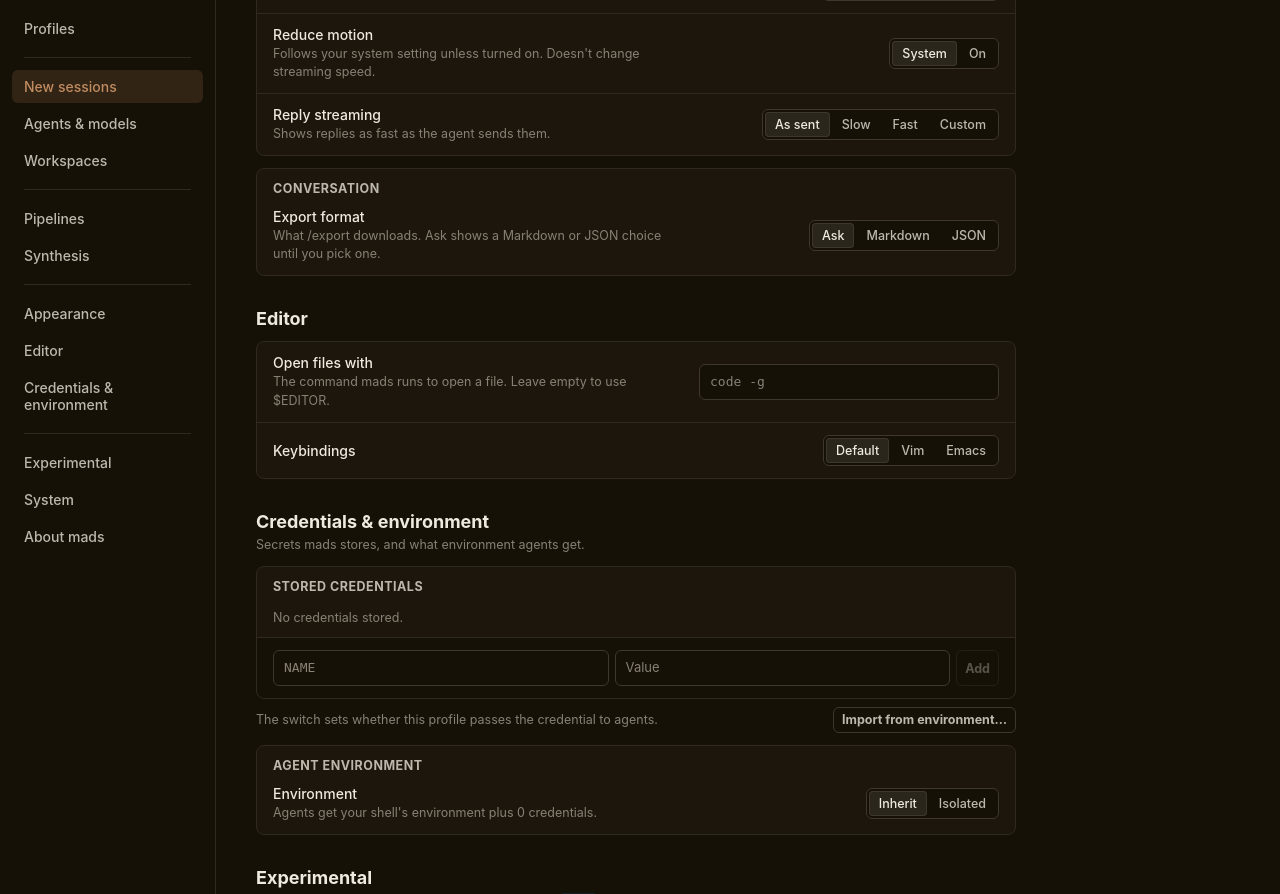
Test: SettingsSurface › save bar › has no restart tag when no restart-required field is dirty
(page scrolled)
Click the radio button labelled "Vim": (913, 450) [891,438,934,463]
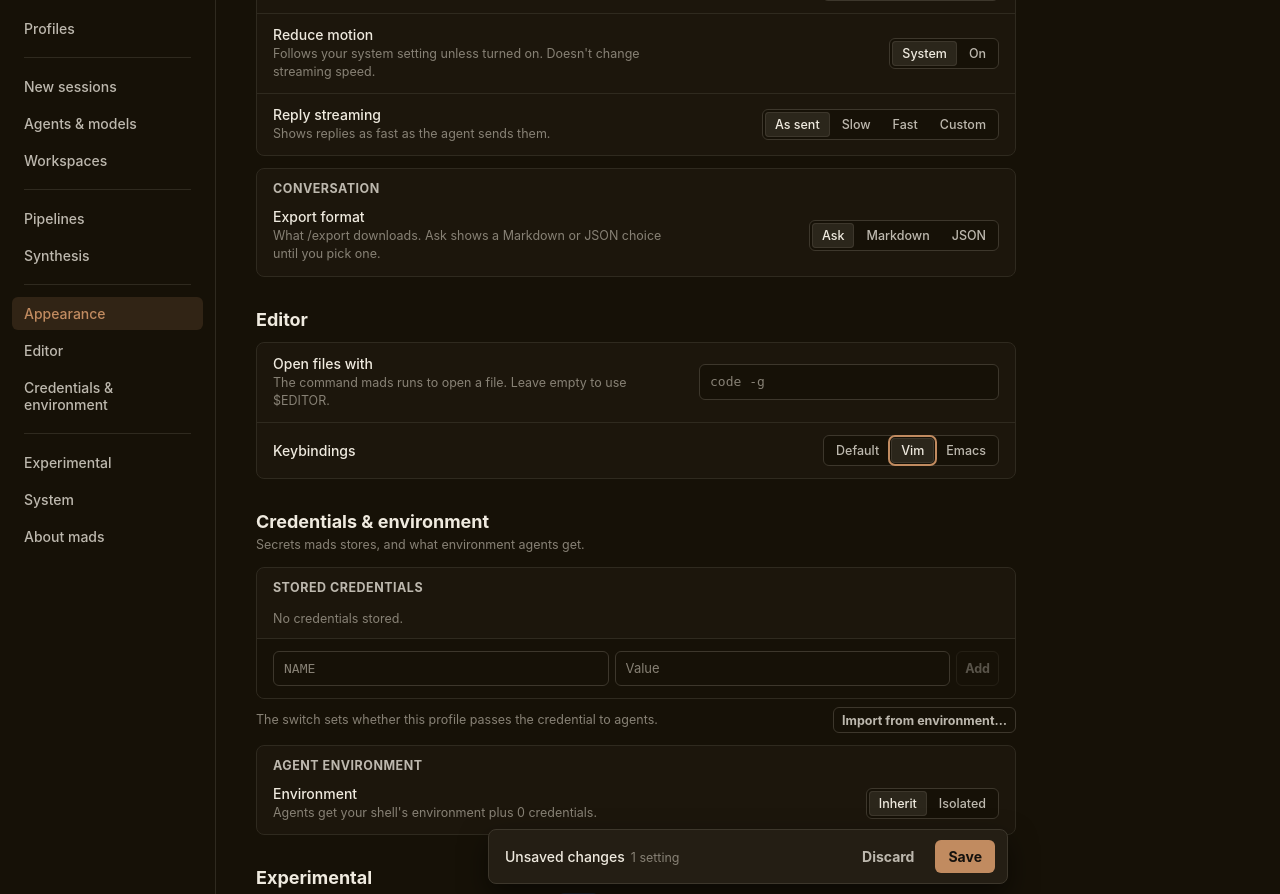
Now the text "1 setting" is shown, box [631,850,680,865]
